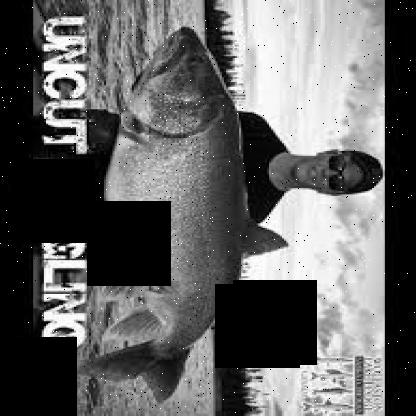fish: (76, 21, 288, 402)
